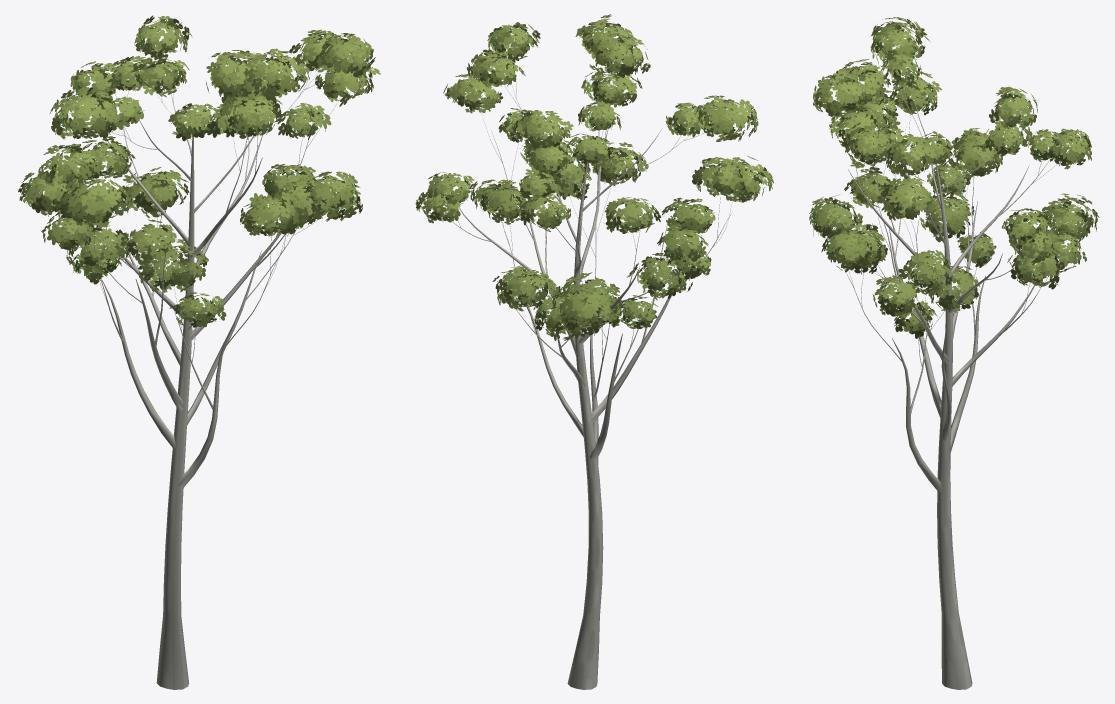
The model's file is tree.gltf.
3 renders of one model, left to right at view 1: azimuth 30°, elevation 25°; view 2: azimuth 150°, elevation 25°; view 3: azimuth 270°, elevation 25°, orthographic. The views are drawn at different scales.
Parts seen in each view (by area): view 1: Tree_LOD0; view 2: Tree_LOD0; view 3: Tree_LOD0.
Boxes of the visible parts, left/top/right/bottom form: Tree_LOD0: left=18, top=15, right=380, bottom=689; Tree_LOD0: left=415, top=14, right=773, bottom=689; Tree_LOD0: left=809, top=17, right=1099, bottom=689.
Size of the model in its own units: 12.86 by 24.39 by 10.35.
2 materials, 2 textured.
